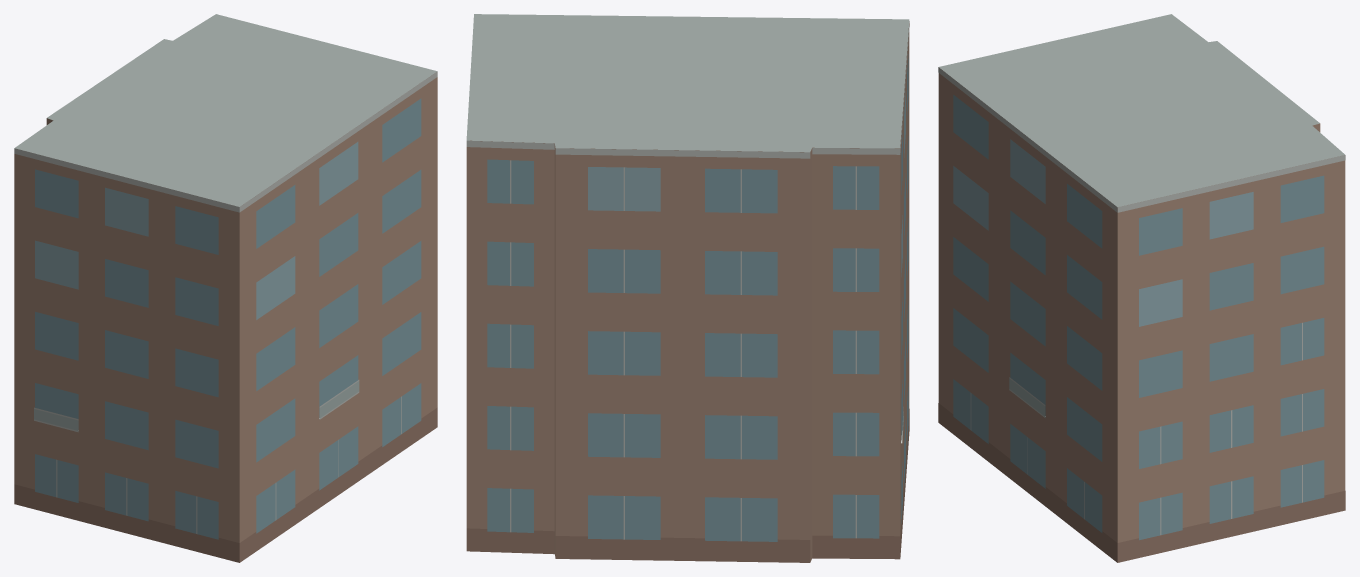
Rendered from survey-upis-32633730.glb.
3 views of the same model, side by side, from view 1: azimuth 30°, elevation 25°; view 2: azimuth 150°, elevation 25°; view 3: azimuth 270°, elevation 25° (orthographic). The views are drawn at different scales.
Visible parts, largest first — view 1: survey-upis-32633730.tmp; view 2: survey-upis-32633730.tmp; view 3: survey-upis-32633730.tmp.
Part boxes in pixels (bbox=[...]): survey-upis-32633730.tmp: bbox=[14, 14, 437, 562]; survey-upis-32633730.tmp: bbox=[466, 14, 909, 562]; survey-upis-32633730.tmp: bbox=[938, 14, 1345, 562].
Size of the model in its own units: 18.19 by 15.6 by 16.19.
